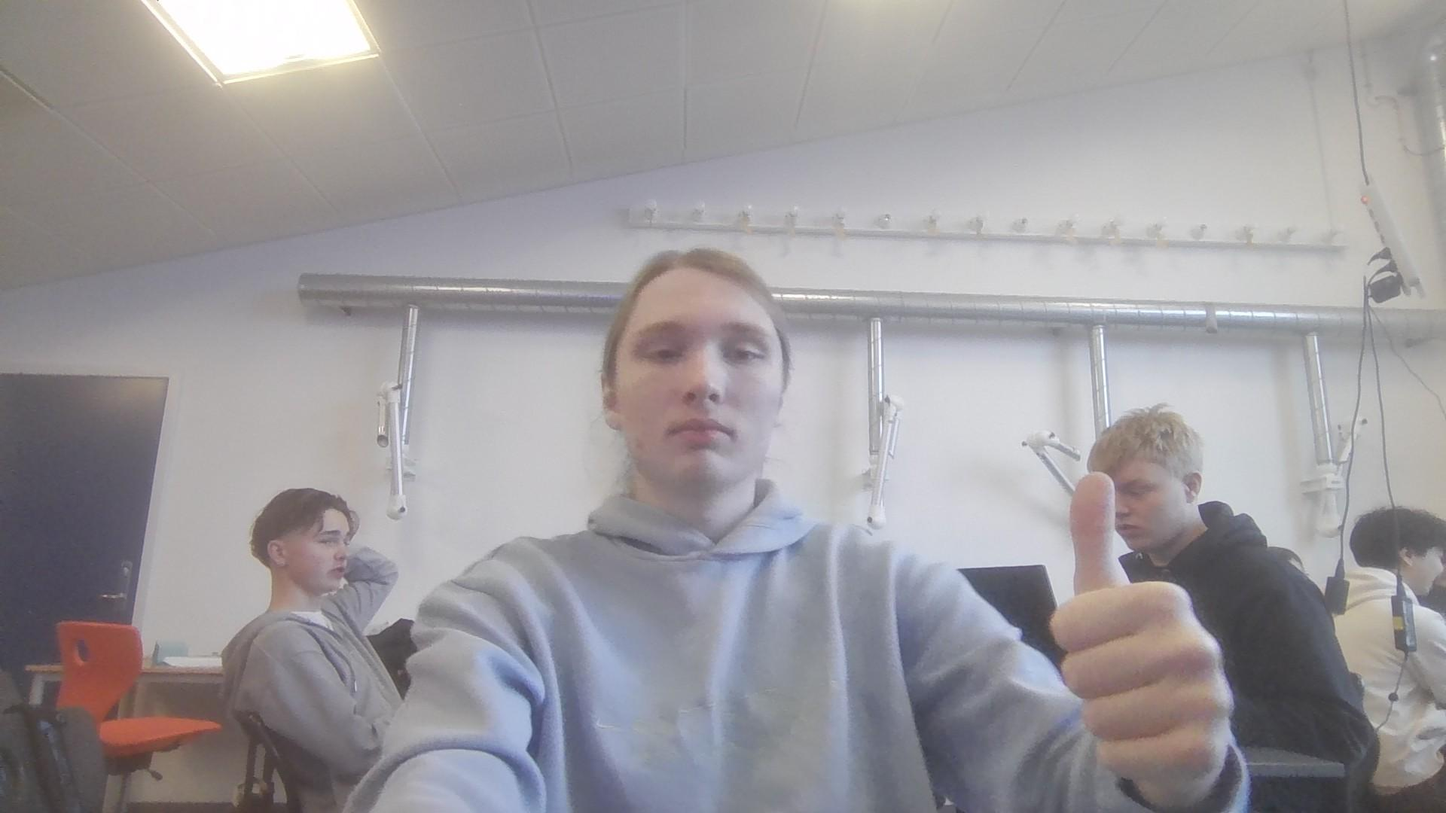thumbs up: (1051, 464, 1239, 789)
